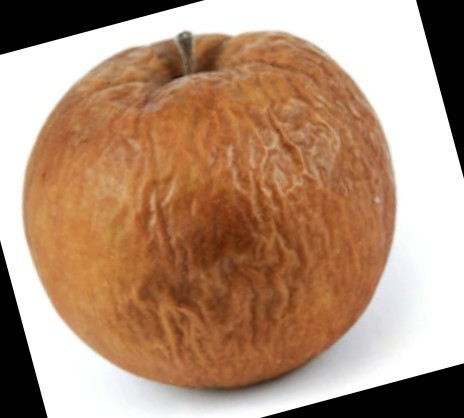rotten_apple: (24, 29, 397, 389)
